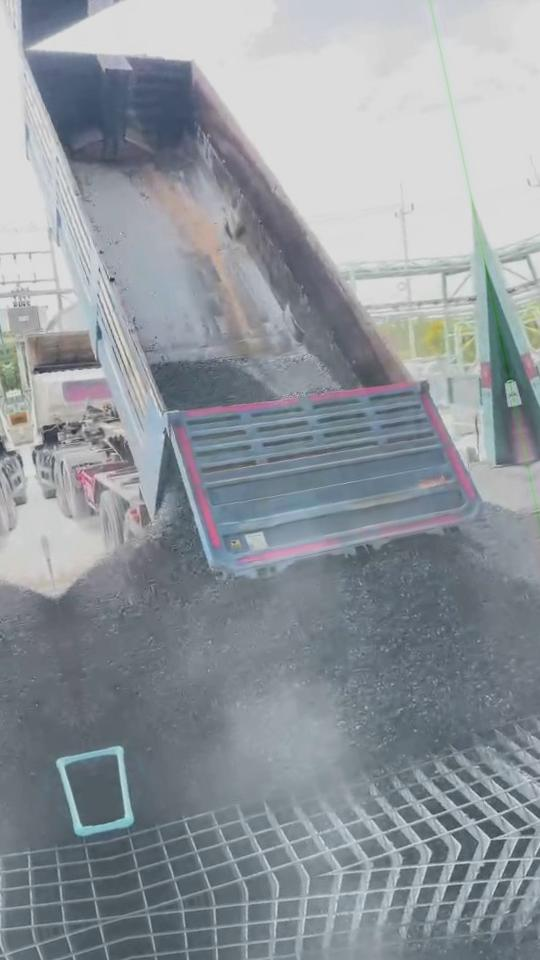gravel: (57, 494, 540, 824), (152, 353, 339, 409), (473, 503, 540, 595), (90, 757, 122, 823)
